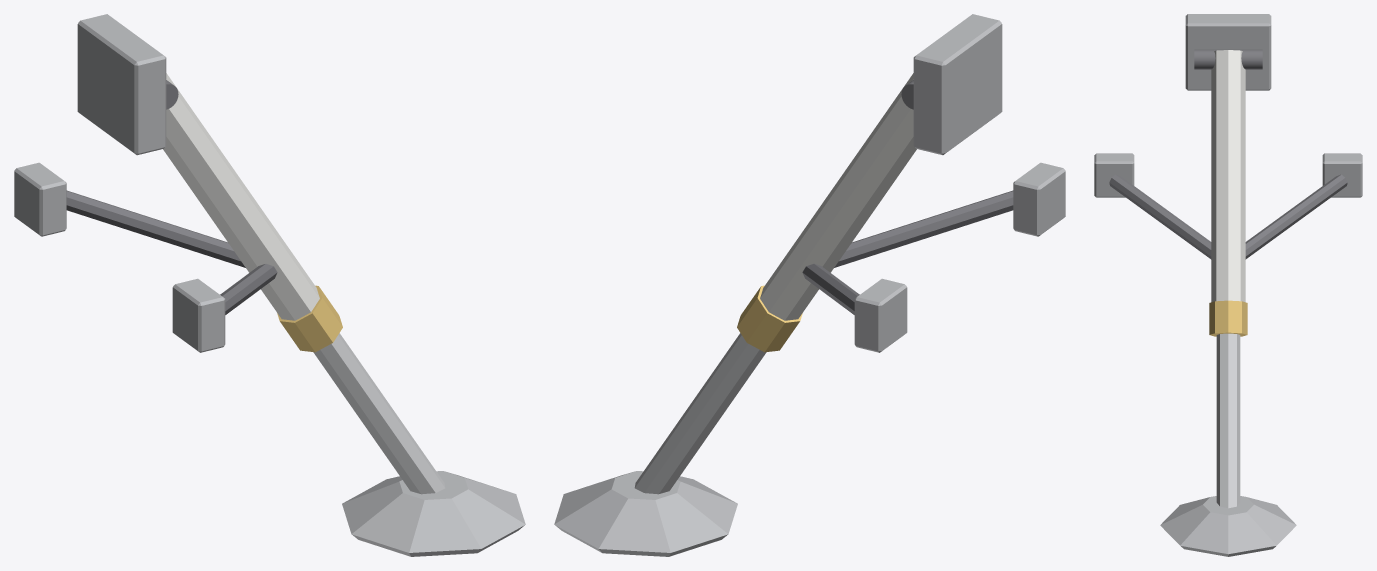
The model's file is ax_gear_04_lander_leg_m_deployed.glb.
3 views of the same model, side by side, from view 1: azimuth 30°, elevation 25°; view 2: azimuth 150°, elevation 25°; view 3: azimuth 270°, elevation 25° (orthographic). The views are drawn at different scales.
Visible parts, largest first — view 1: leg_hinge_block, leg_footpad, leg_outer_tube, leg_inner_tube, leg_secondary_struts, leg_crush_band; view 2: leg_hinge_block, leg_footpad, leg_outer_tube, leg_inner_tube, leg_secondary_struts, leg_crush_band; view 3: leg_outer_tube, leg_hinge_block, leg_footpad, leg_inner_tube, leg_secondary_struts, leg_crush_band, leg_hinge_pin.
Boxes of the visible parts, x1=… form: leg_hinge_block: x1=14, y1=14, x2=225, y2=352; leg_footpad: x1=342, y1=471, x2=525, y2=556; leg_outer_tube: x1=163, y1=73, x2=319, y2=320; leg_inner_tube: x1=313, y1=333, x2=445, y2=494; leg_secondary_struts: x1=66, y1=190, x2=277, y2=314; leg_crush_band: x1=277, y1=285, x2=342, y2=352; leg_hinge_block: x1=854, y1=14, x2=1065, y2=352; leg_footpad: x1=554, y1=471, x2=737, y2=556; leg_outer_tube: x1=760, y1=73, x2=916, y2=320; leg_inner_tube: x1=634, y1=333, x2=766, y2=494; leg_secondary_struts: x1=802, y1=190, x2=1013, y2=314; leg_crush_band: x1=737, y1=285, x2=802, y2=352; leg_outer_tube: x1=1211, y1=50, x2=1245, y2=302; leg_hinge_block: x1=1094, y1=14, x2=1362, y2=197; leg_footpad: x1=1160, y1=496, x2=1296, y2=556; leg_inner_tube: x1=1216, y1=333, x2=1240, y2=508; leg_secondary_struts: x1=1109, y1=174, x2=1347, y2=259; leg_crush_band: x1=1209, y1=300, x2=1247, y2=336; leg_hinge_pin: x1=1194, y1=49, x2=1262, y2=69.
Bounding box in the file's own units: 1.79 × 2.34 × 1.41.
